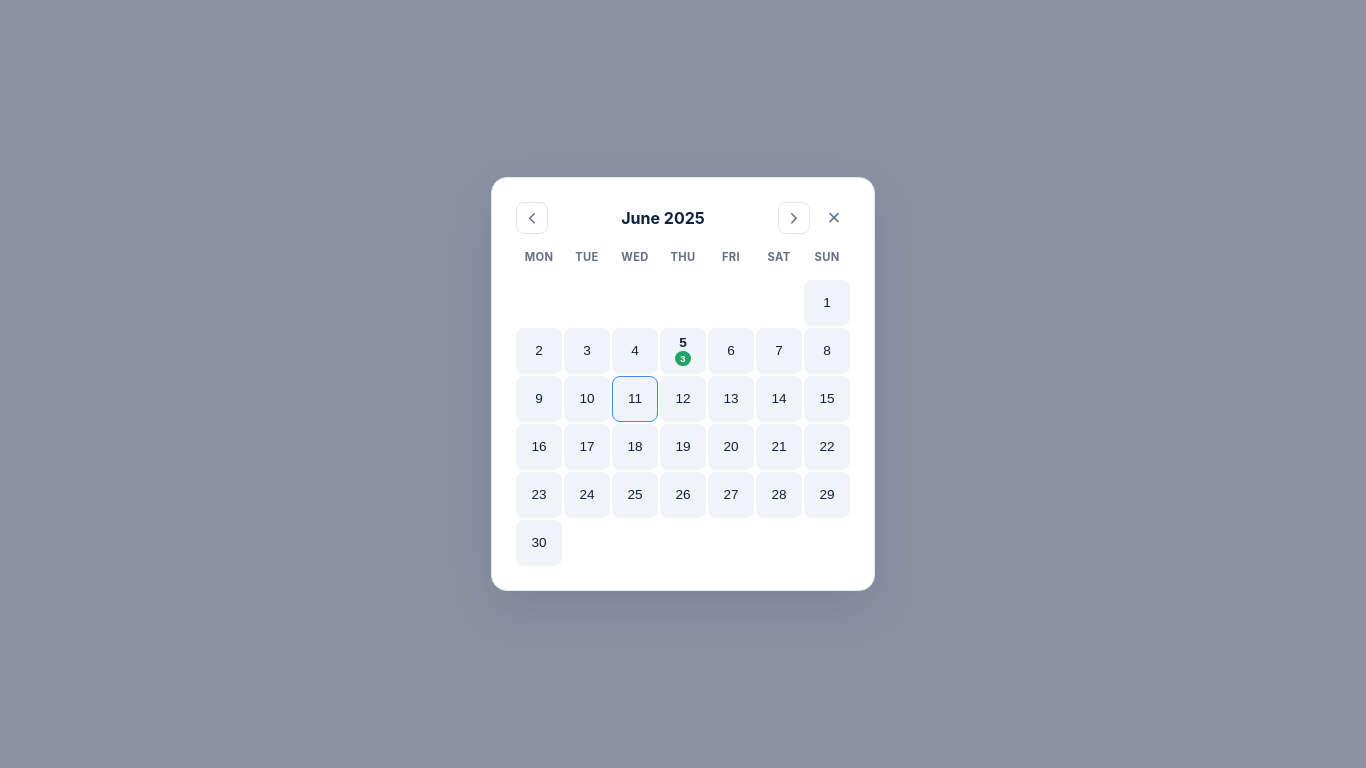
Test: ApplicationCalendarPopover › 10. multiple applications on the same date are all displayed
Click the cell with class "calendar-cell--day" showing "5 3": (683, 351) [660,328,706,374]
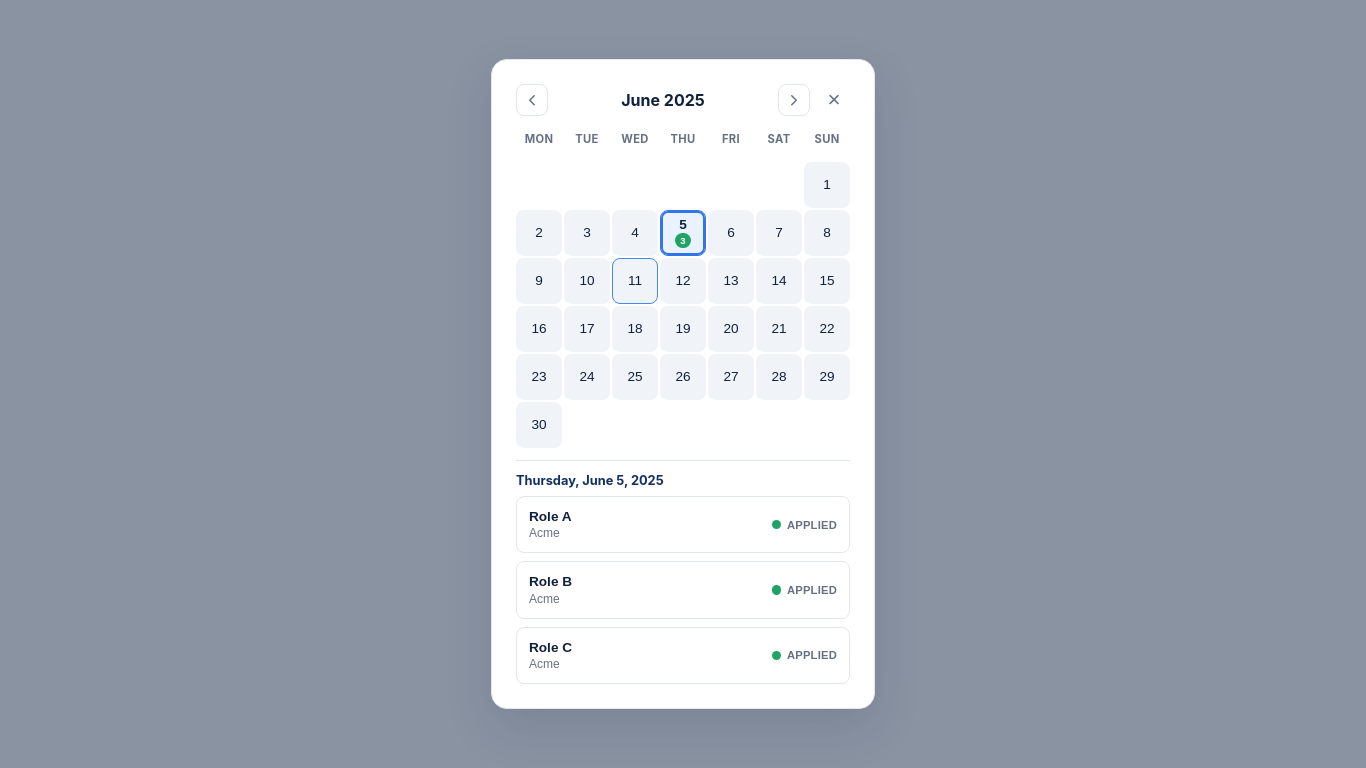
Check: the number of list items with class "calendar-app-item" is 3, box [516,496,850,553]; [516,561,850,619]; [516,627,850,684]
Check: the list with class "calendar-app-list" shows "Role A", box [516,496,850,553]
Check: the list with class "calendar-app-list" shows "Role B", box [516,561,850,619]
